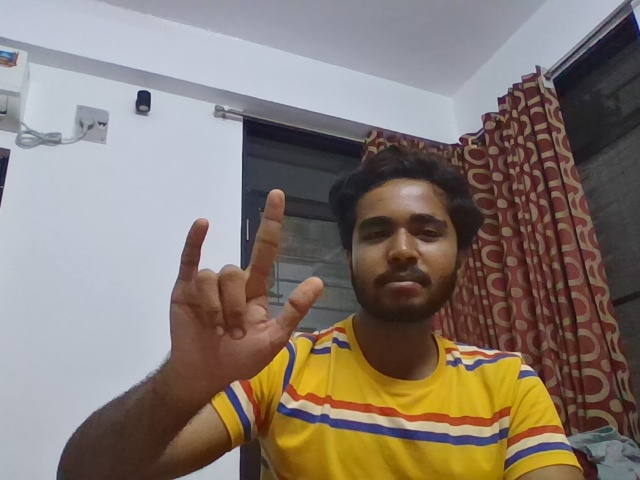I Love You: (159, 181, 327, 393)
